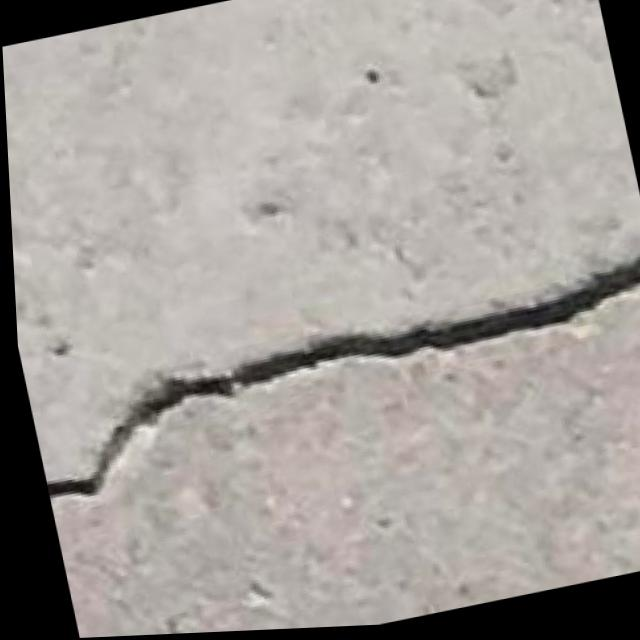Crack: (10, 221, 640, 529)
